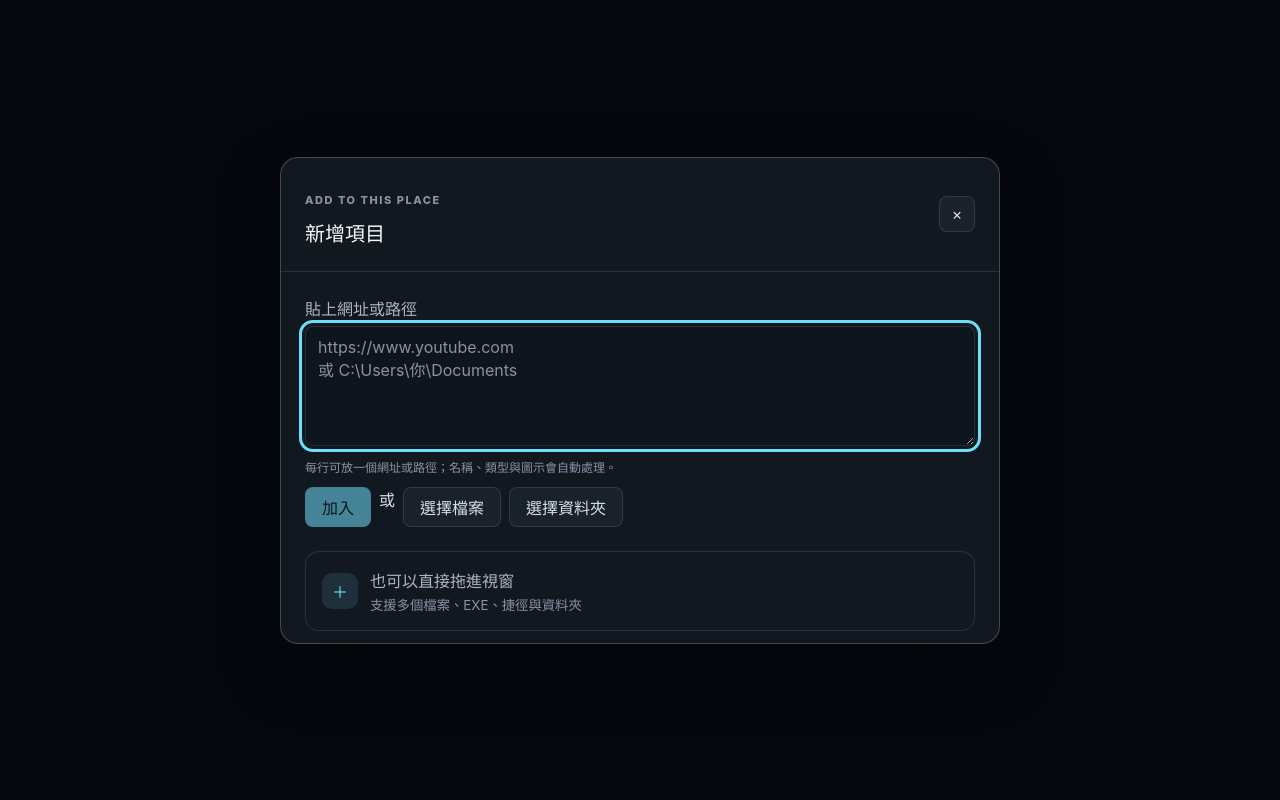
Scenario: AddPanel › 只需貼上網址就能以統一契約加入
This screenshot has width=1280, height=800.
In the text box labelled "貼上網址或路徑": x=640, y=386 [305,326,975,446], type "https://www.youtube.com"
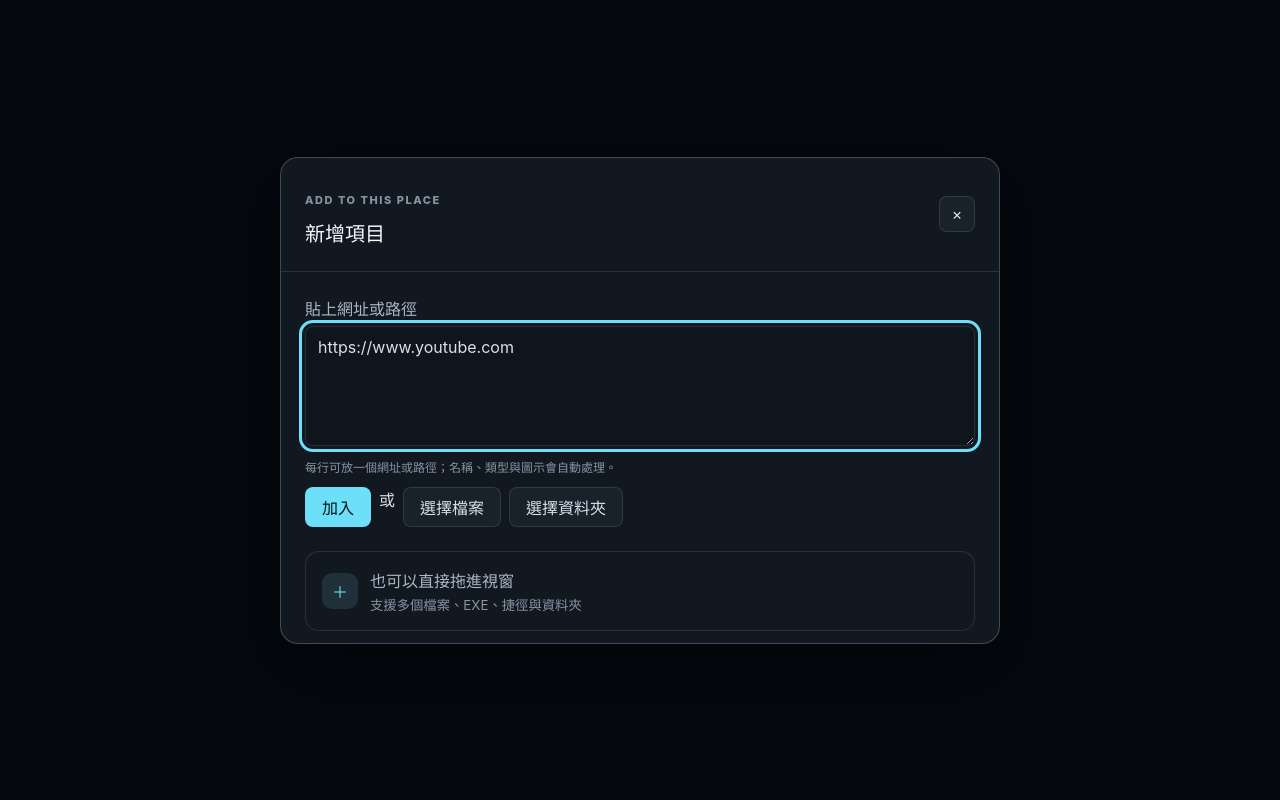
Click the button "加入": x=338, y=506 [305,486,371,526]
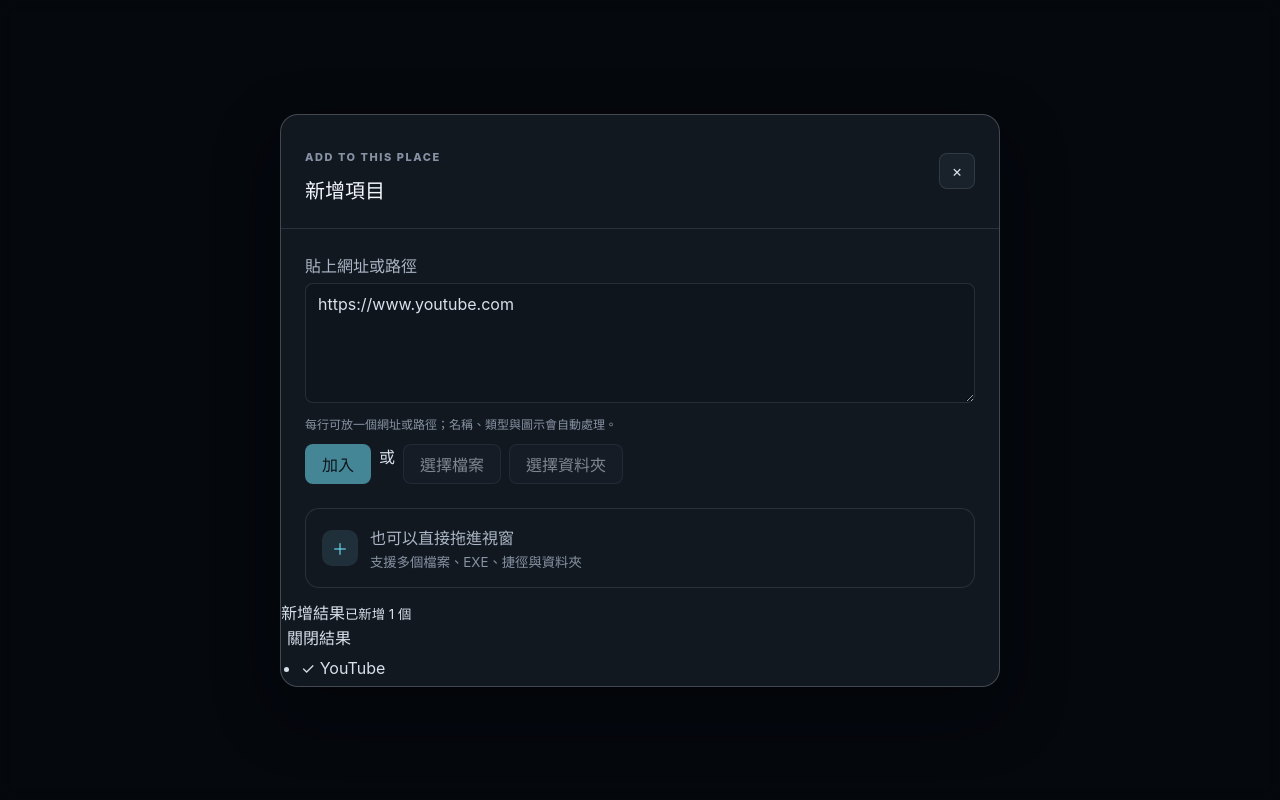
Expected: the list item "✓ YouTube" is shown, [301,658,385,678]
